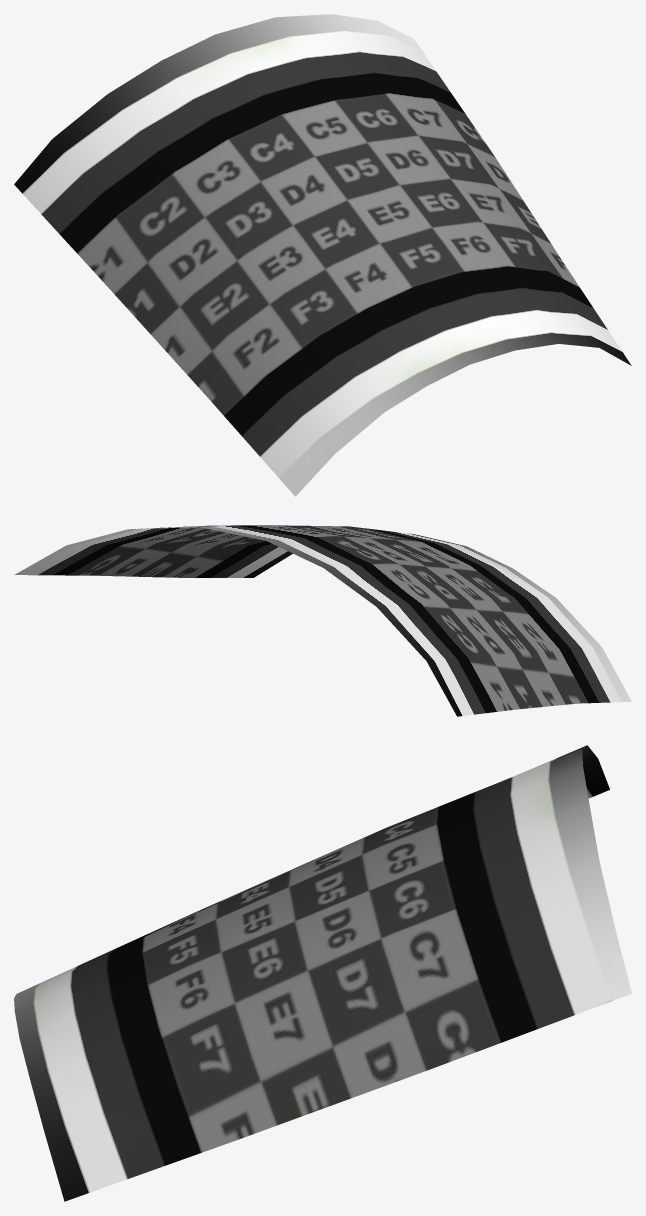
The model's file is status_left.obj.
3 renders of one model, top to bottom at view 1: azimuth 30°, elevation 25°; view 2: azimuth 150°, elevation 25°; view 3: azimuth 270°, elevation 25°, orthographic. The views are drawn at different scales.
Parts seen in each view (by area): view 1: l_status; view 2: l_status; view 3: l_status.
Part boxes in pixels (bbox=[...]): l_status: bbox=[14, 14, 631, 496]; l_status: bbox=[14, 525, 631, 716]; l_status: bbox=[14, 745, 631, 1201].
Size of the model in its own units: 0.0235 by 0.0151 by 0.024.
Materials: 1 (1 with a texture image).
